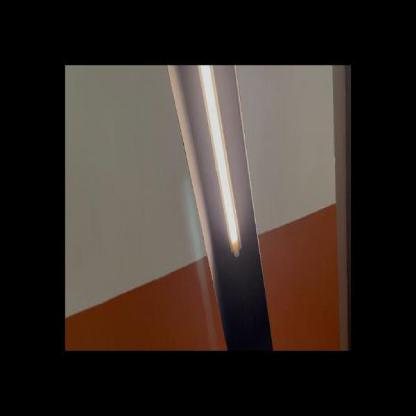light_on: (194, 65, 246, 273)
